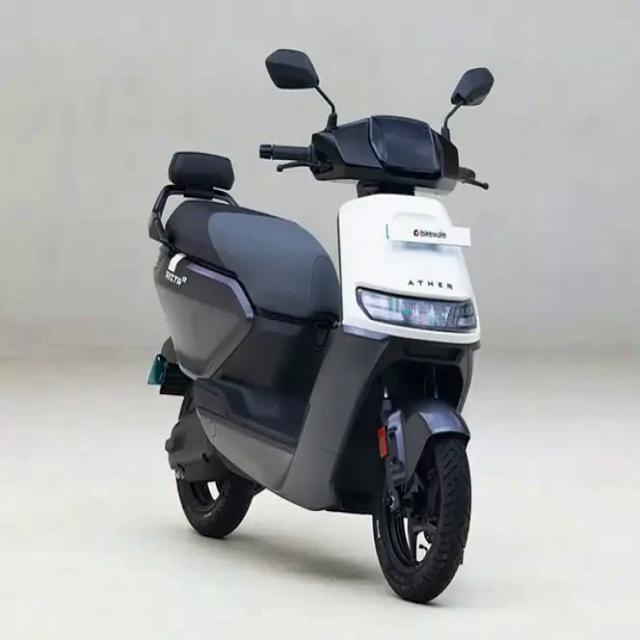objects: (137, 35, 516, 611)
